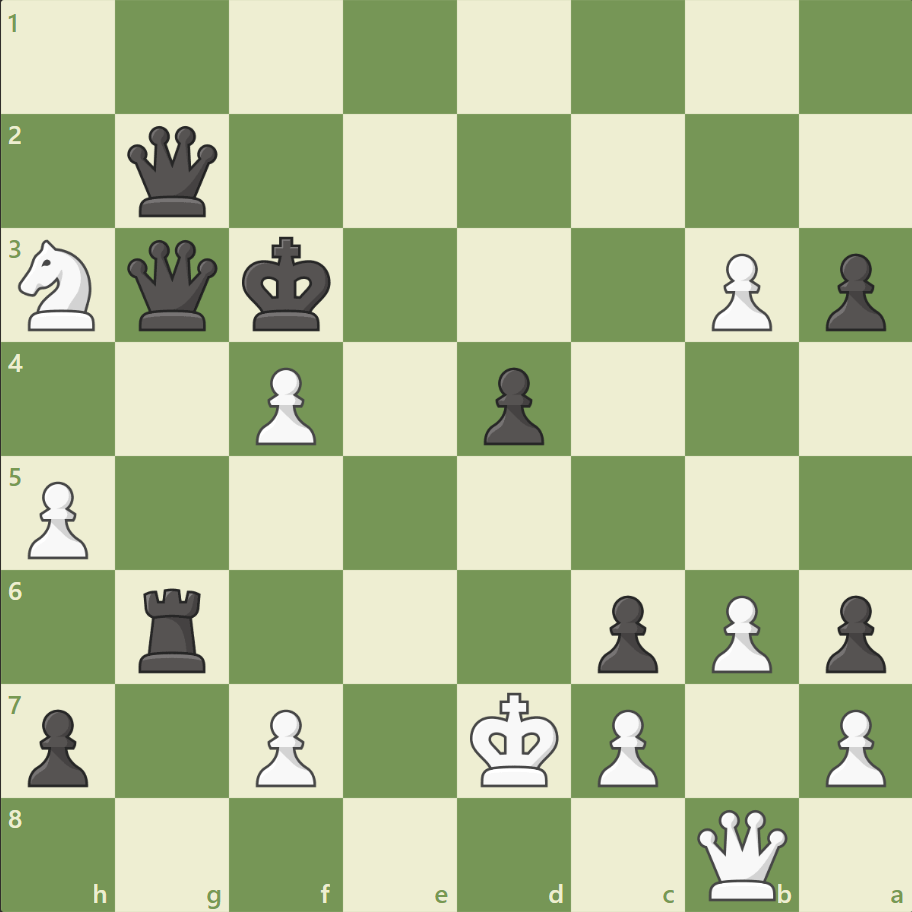K: (465, 685, 565, 793)
N: (11, 234, 108, 337)
P: (247, 700, 322, 791), (701, 586, 776, 677), (20, 473, 95, 564), (247, 359, 322, 450), (701, 246, 776, 337), (815, 700, 889, 791), (588, 700, 662, 791)
Q: (691, 804, 790, 903)
k: (238, 231, 338, 339)
p: (20, 700, 95, 791), (474, 359, 549, 450), (815, 586, 889, 677), (588, 586, 662, 677), (815, 246, 889, 337)
q: (124, 122, 223, 222), (124, 236, 223, 335)
r: (133, 579, 215, 676)
